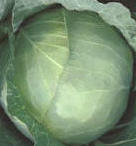cabbage: (12, 9, 134, 143)
